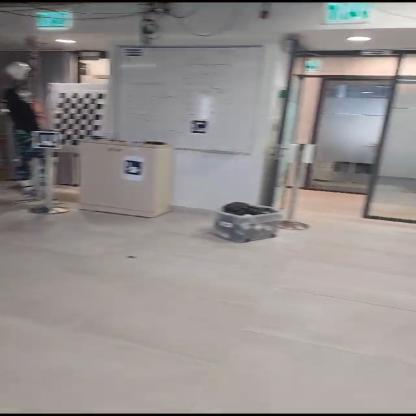open: (297, 44, 393, 230)
